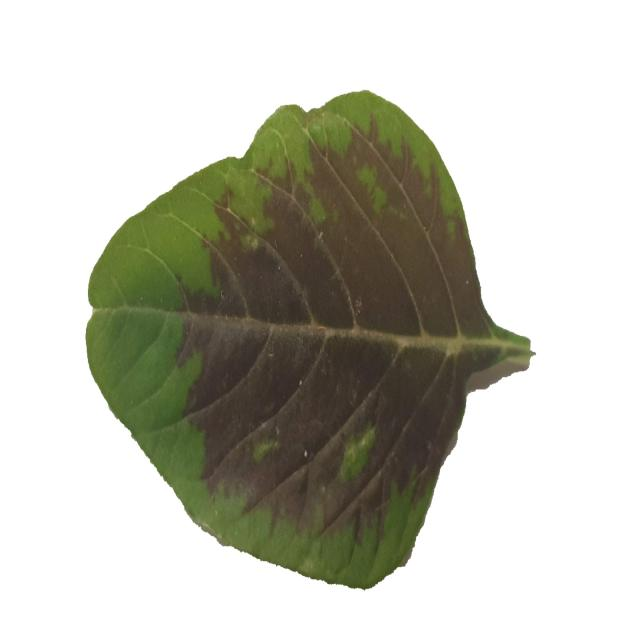Medicinal-Arive Dantu: (85, 83, 536, 588)
